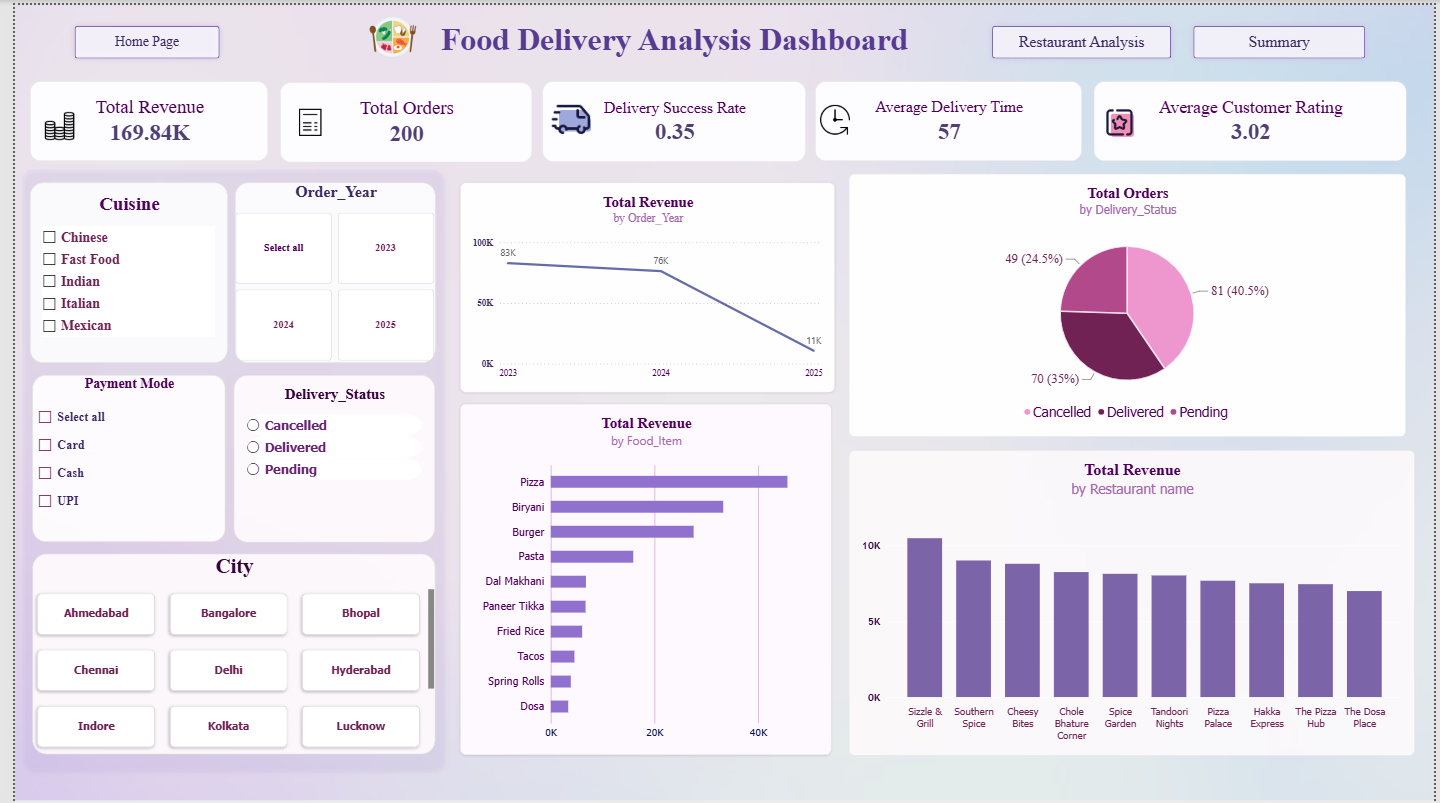

What the dashboard file says about the page in this screenshot:
{"tool":"powerbi","page":{"name":"Order Analysis","canvas":[1920,1080],"ordinal":1},"visuals":[{"type":"shape","box":[0,212.8,588.8,830.9],"z":0},{"type":"textbox","box":[458,22,868,54],"z":1000},{"type":"image","box":[472,12,78.3,63.3],"z":2000},{"type":"cardVisual","fields":{"Data":["Measures_Table.Total Revenue"]},"box":[20.2,102.7,322.8,108.2],"z":3000},{"type":"cardVisual","fields":{"Data":["Measures_Table.Total Orders"]},"box":[357.7,104.6,341.2,108.2],"z":4000},{"type":"cardVisual","fields":{"Data":["Measures_Table.Delivery Success Rate"]},"box":[713.5,102.7,356.4,109.1],"z":5000},{"type":"cardVisual","fields":{"Data":["Measures_Table.Average Delivery Time"]},"box":[1082.2,102.7,361.3,108.2],"z":6000},{"type":"cardVisual","fields":{"Data":["Measures_Table.Average Customer Rating"]},"box":[1458.2,102.7,423.7,108.2],"z":7000},{"type":"lineChart","fields":{"Category":["Order_detail.Order_Year"],"Y":["Measures_Table.Total Revenue"]},"box":[601.6,240.3,507.6,284.3],"z":8000},{"type":"barChart","fields":{"Category":["Order_detail.Food_Item"],"Y":["Measures_Table.Total Revenue"]},"box":[601.6,539.3,502.6,475.1],"z":9000},{"type":"pieChart","fields":{"Category":["Order_detail.Delivery_Status"],"Y":["Measures_Table.Total Orders"]},"box":[1128.1,227.4,753.5,355.8],"z":10000},{"type":"columnChart","fields":{"Category":["Restaurants_Details.Restaurant name"],"Y":["Measures_Table.Total Revenue"]},"box":[1128.1,601.6,765.7,413.4],"z":11000},{"type":"advancedSlicerVisual","fields":{"Values":["Order_detail.Order_Year"]},"box":[297.1,240.3,271.5,244],"z":12000},{"type":"slicer","title":"Payment Mode","fields":{"Values":["Order_detail.Payment_Mode"]},"box":[23.8,500.7,260.5,225.6],"z":13000},{"type":"listSlicer","fields":{"Values":["Order_detail.Delivery_Status"]},"box":[295.9,500.4,272.2,226.6],"z":14000},{"type":"listSlicer","fields":{"Values":["Restaurants_Details.Cuisine"]},"box":[20.2,240.3,267.3,243.6],"z":15000},{"type":"advancedSlicerVisual","fields":{"Values":["Restaurants_Details.City"]},"box":[23.8,742.9,544.8,271.5],"z":16000},{"type":"image","box":[34.9,143.1,49.1,40],"z":17000},{"type":"image","box":[361.3,139.4,74.5,40],"z":18000},{"type":"image","box":[713.5,126.6,80,56.4],"z":19000},{"type":"image","box":[1087.7,126.6,44,56.9],"z":20000},{"type":"image","box":[1458.2,135.7,69.1,47.3],"z":21000},{"type":"actionButton","box":[72,20,212,60],"z":22000},{"type":"actionButton","box":[1586,20,248,60],"z":23000},{"type":"actionButton","box":[1314,20,258,60],"z":24000}]}

Visuals, with their boxes in screenshot pixels (x1, y1, x2, y2), scaled from the page's 1920x1080 canvas onto the 1440x803 screenshot:
shape: BBox(0, 158, 442, 776)
textbox: BBox(344, 16, 994, 57)
image: BBox(354, 9, 413, 56)
cardVisual - Measures_Table.Total Revenue: BBox(15, 76, 257, 157)
cardVisual - Measures_Table.Total Orders: BBox(268, 78, 524, 158)
cardVisual - Measures_Table.Delivery Success Rate: BBox(535, 76, 802, 157)
cardVisual - Measures_Table.Average Delivery Time: BBox(812, 76, 1083, 157)
cardVisual - Measures_Table.Average Customer Rating: BBox(1094, 76, 1411, 157)
lineChart - Order_detail.Order_Year x Measures_Table.Total Revenue: BBox(451, 179, 832, 390)
barChart - Order_detail.Food_Item x Measures_Table.Total Revenue: BBox(451, 401, 828, 754)
pieChart - Order_detail.Delivery_Status x Measures_Table.Total Orders: BBox(846, 169, 1411, 434)
columnChart - Restaurants_Details.Restaurant name x Measures_Table.Total Revenue: BBox(846, 447, 1420, 755)
advancedSlicerVisual - Order_detail.Order_Year: BBox(223, 179, 426, 360)
"Payment Mode" slicer: BBox(18, 372, 213, 540)
listSlicer - Order_detail.Delivery_Status: BBox(222, 372, 426, 541)
listSlicer - Restaurants_Details.Cuisine: BBox(15, 179, 216, 360)
advancedSlicerVisual - Restaurants_Details.City: BBox(18, 552, 426, 754)
image: BBox(26, 106, 63, 136)
image: BBox(271, 104, 327, 133)
image: BBox(535, 94, 595, 136)
image: BBox(816, 94, 849, 136)
image: BBox(1094, 101, 1145, 136)
actionButton: BBox(54, 15, 213, 59)
actionButton: BBox(1190, 15, 1376, 59)
actionButton: BBox(986, 15, 1179, 59)
